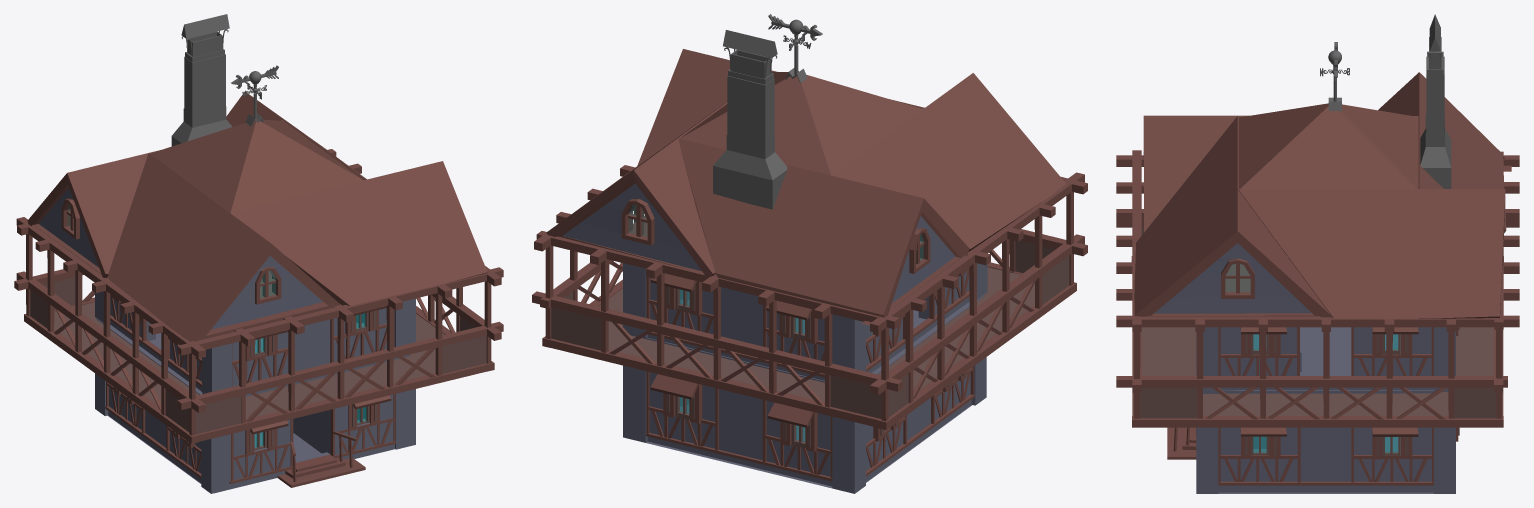
Rendered from house10.fbx.
3 renders of one model, left to right at view 1: azimuth 30°, elevation 25°; view 2: azimuth 150°, elevation 25°; view 3: azimuth 270°, elevation 25°, orthographic. The views are drawn at different scales.
Parts seen in each view (by area): view 1: house; view 2: house; view 3: house.
Boxes of the visible parts, left/top/right/bottom form: house: left=14, top=14, right=503, bottom=493; house: left=532, top=14, right=1087, bottom=493; house: left=1116, top=14, right=1519, bottom=493.
Size of the model in its own units: 1185 by 1307 by 1158.
